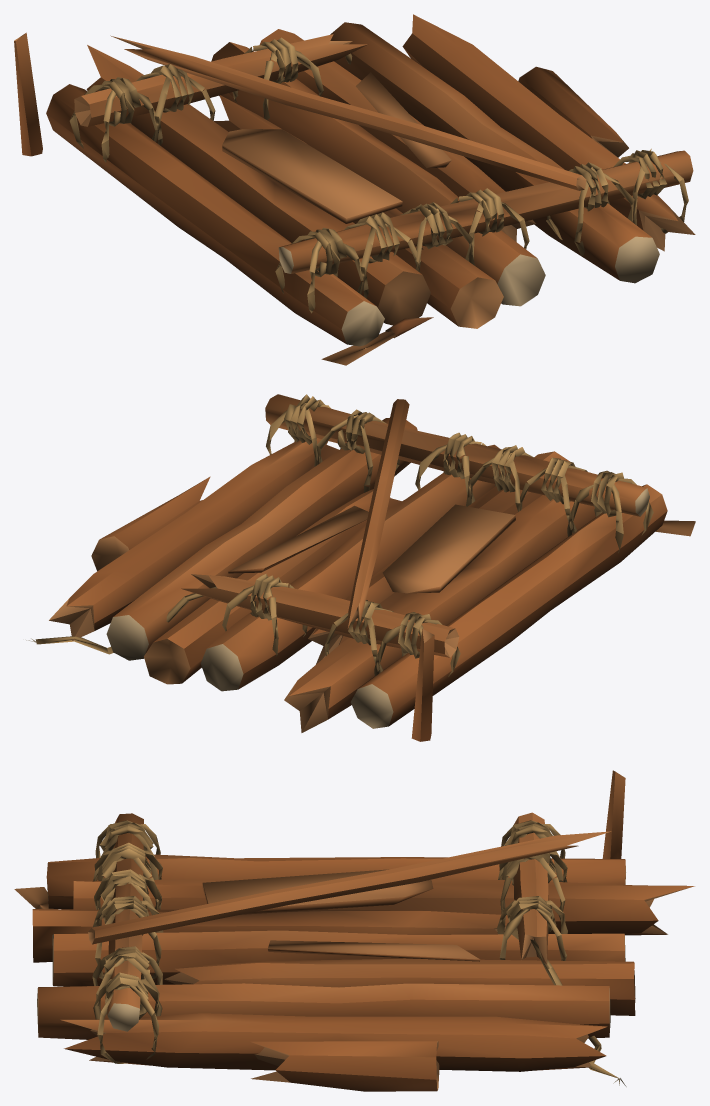
File: building-brokenRaft-low.glb
3 renders of one model, top to bottom at view 1: azimuth 30°, elevation 25°; view 2: azimuth 150°, elevation 25°; view 3: azimuth 270°, elevation 25°, orthographic. The views are drawn at different scales.
Parts seen in each view (by area): view 1: 0_brokenRaft; view 2: 0_brokenRaft; view 3: 0_brokenRaft.
Boxes of the visible parts, box(x1,y1,x2,y2) form: 0_brokenRaft: box(14, 14, 695, 365); 0_brokenRaft: box(26, 394, 695, 741); 0_brokenRaft: box(14, 770, 694, 1091).
Bounding box in the file's own units: 2.04 × 0.5119 × 2.7.
